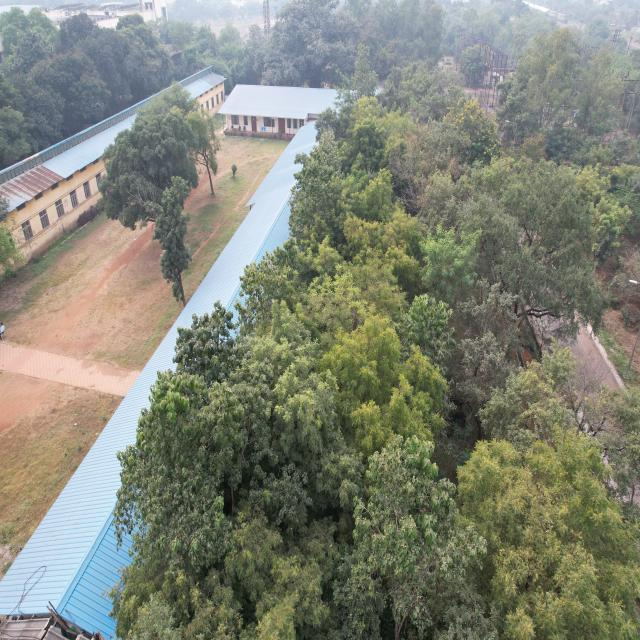Devakanchan tree: (140, 363, 266, 564), (331, 473, 448, 640), (480, 187, 595, 321)
Mango Tree: (108, 113, 191, 288)
Neem Tree: (483, 443, 611, 627), (325, 176, 404, 330), (342, 347, 433, 443)
